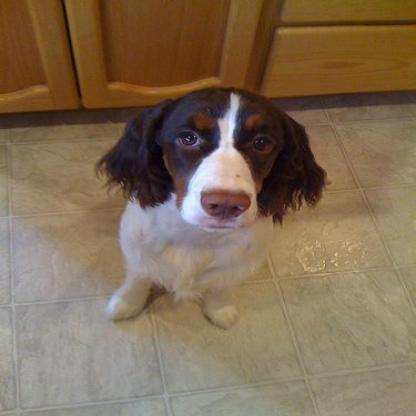English_springer: (98, 84, 328, 328)
